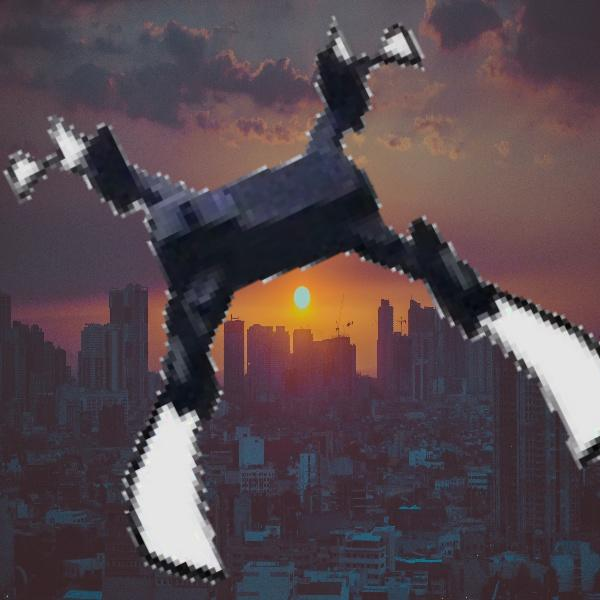drone: (22, 2, 599, 579)
